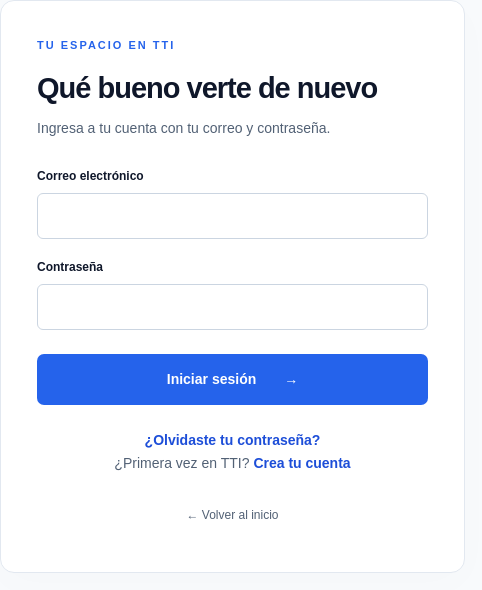
Test: pending request disables submit
The width and height of the screenshot is (482, 590).
Step 1. Type "ana@example.com" into the field labelled "Correo electrónico" → (232, 216), box [37, 193, 428, 239]
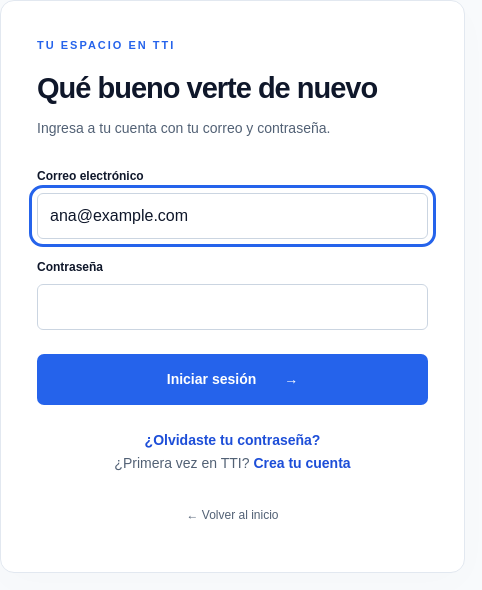
Step 2. Type "Una-clave!Distinta8472" into the password field labelled "Contraseña" → (232, 307), box [37, 284, 428, 330]
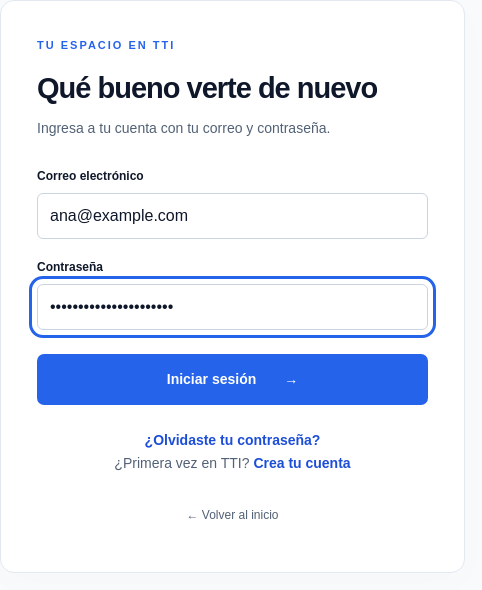
Step 3. Click the button "Iniciar sesión →" → (232, 379), box [37, 354, 428, 405]
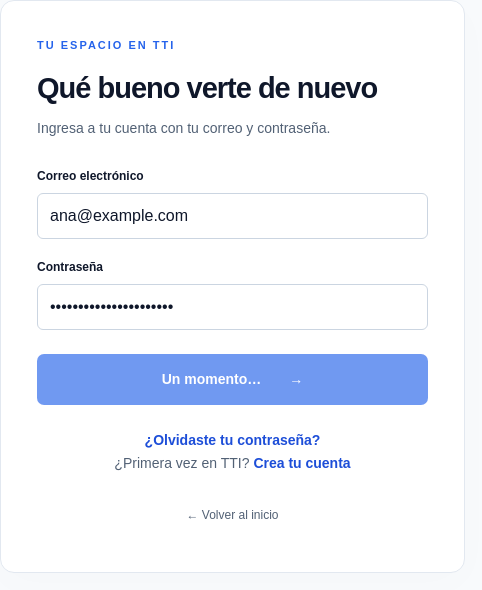
Result: the button "Un momento… →" is disabled at [37, 354, 428, 405]
